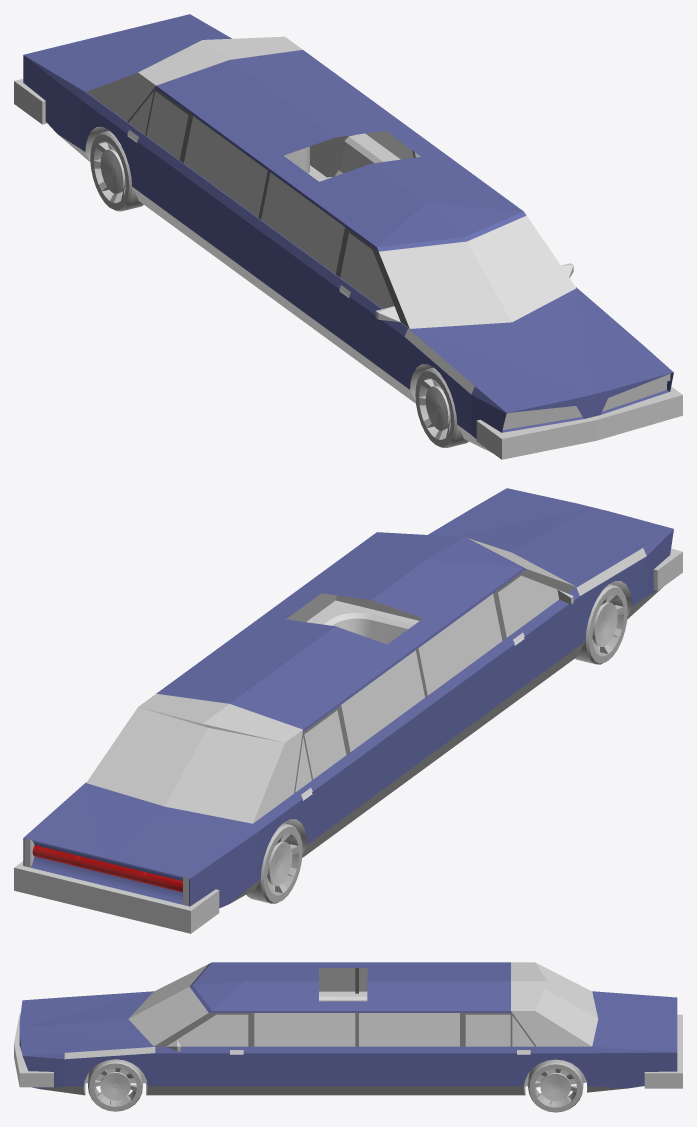
File: Limuzin (1).fbx
The picture shows the model from 3 angles, top to bottom: view 1: azimuth 30°, elevation 25°; view 2: azimuth 150°, elevation 25°; view 3: azimuth 270°, elevation 25°; orthographic projection. The views are drawn at different scales.
Parts seen in each view (by area): view 1: Layer0_001.008; view 2: Layer0_001.008; view 3: Layer0_001.008.
Boxes of the visible parts, x1,y1,x2,y2 form: Layer0_001.008: (14,14,682,459); Layer0_001.008: (14,488,682,933); Layer0_001.008: (14,962,682,1112).
Bounding box in the file's own units: 1.91 × 1.42 × 8.37.
